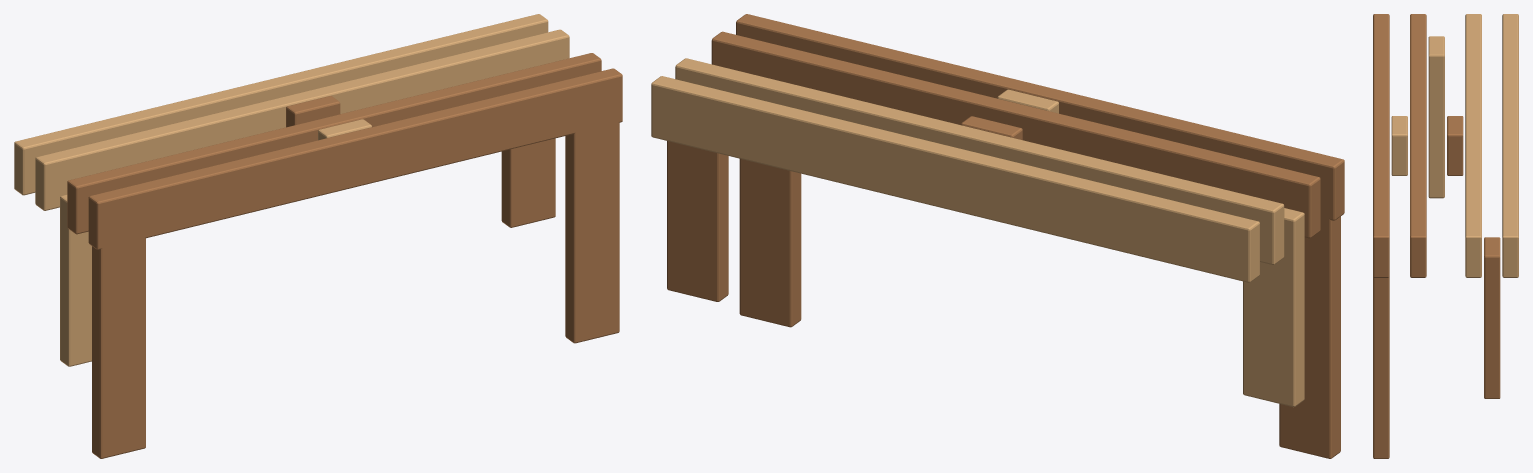
Rendered from bench.glb.
The picture shows the model from 3 angles, left to right: view 1: azimuth 30°, elevation 25°; view 2: azimuth 150°, elevation 25°; view 3: azimuth 270°, elevation 25°; orthographic projection. The views are drawn at different scales.
Visible parts, largest first — view 1: Course timber 0, Course timber 0.005, Course timber 2, Course timber 1, Course timber 0.007, Course timber 0.002, Course timber 0.003, Course timber 0.006, Course timber 0.004; view 2: Course timber 0.007, Course timber 0.002, Course timber 0.005, Course timber 0, Course timber 2, Course timber 1, Course timber 0.003, Course timber 0.006, Course timber 0.004, Course timber 0.001; view 3: Course timber 0, Course timber 0.002, Course timber 0.005, Course timber 0.007, Course timber 2, Course timber 0.003, Course timber 0.006, Course timber 0.001, Course timber 0.004.
Boxes of the visible parts, bbox=[...] form: Course timber 0: bbox=[88, 68, 622, 249]; Course timber 0.005: bbox=[35, 29, 569, 210]; Course timber 2: bbox=[565, 101, 619, 343]; Course timber 1: bbox=[92, 217, 145, 458]; Course timber 0.007: bbox=[14, 14, 548, 195]; Course timber 0.002: bbox=[67, 53, 601, 234]; Course timber 0.003: bbox=[60, 194, 91, 366]; Course timber 0.006: bbox=[501, 138, 555, 227]; Course timber 0.004: bbox=[286, 96, 340, 127]; Course timber 0.007: bbox=[651, 76, 1259, 282]; Course timber 0.002: bbox=[711, 31, 1320, 238]; Course timber 0.005: bbox=[675, 58, 1284, 264]; Course timber 0: bbox=[736, 14, 1344, 220]; Course timber 2: bbox=[739, 158, 801, 327]; Course timber 1: bbox=[1279, 195, 1340, 458]; Course timber 0.003: bbox=[1243, 208, 1304, 407]; Course timber 0.006: bbox=[667, 141, 728, 301]; Course timber 0.004: bbox=[961, 116, 1022, 139]; Course timber 0.001: bbox=[997, 89, 1058, 113]; Course timber 0: bbox=[1373, 14, 1389, 277]; Course timber 0.002: bbox=[1410, 14, 1426, 277]; Course timber 0.005: bbox=[1465, 14, 1481, 277]; Course timber 0.007: bbox=[1502, 14, 1518, 277]; Course timber 2: bbox=[1373, 276, 1389, 458]; Course timber 0.003: bbox=[1428, 36, 1444, 198]; Course timber 0.006: bbox=[1484, 237, 1500, 398]; Course timber 0.001: bbox=[1391, 116, 1407, 175]; Course timber 0.004: bbox=[1447, 116, 1463, 175].
Size of the model in its own units: 4 by 1.88 by 1.1.
